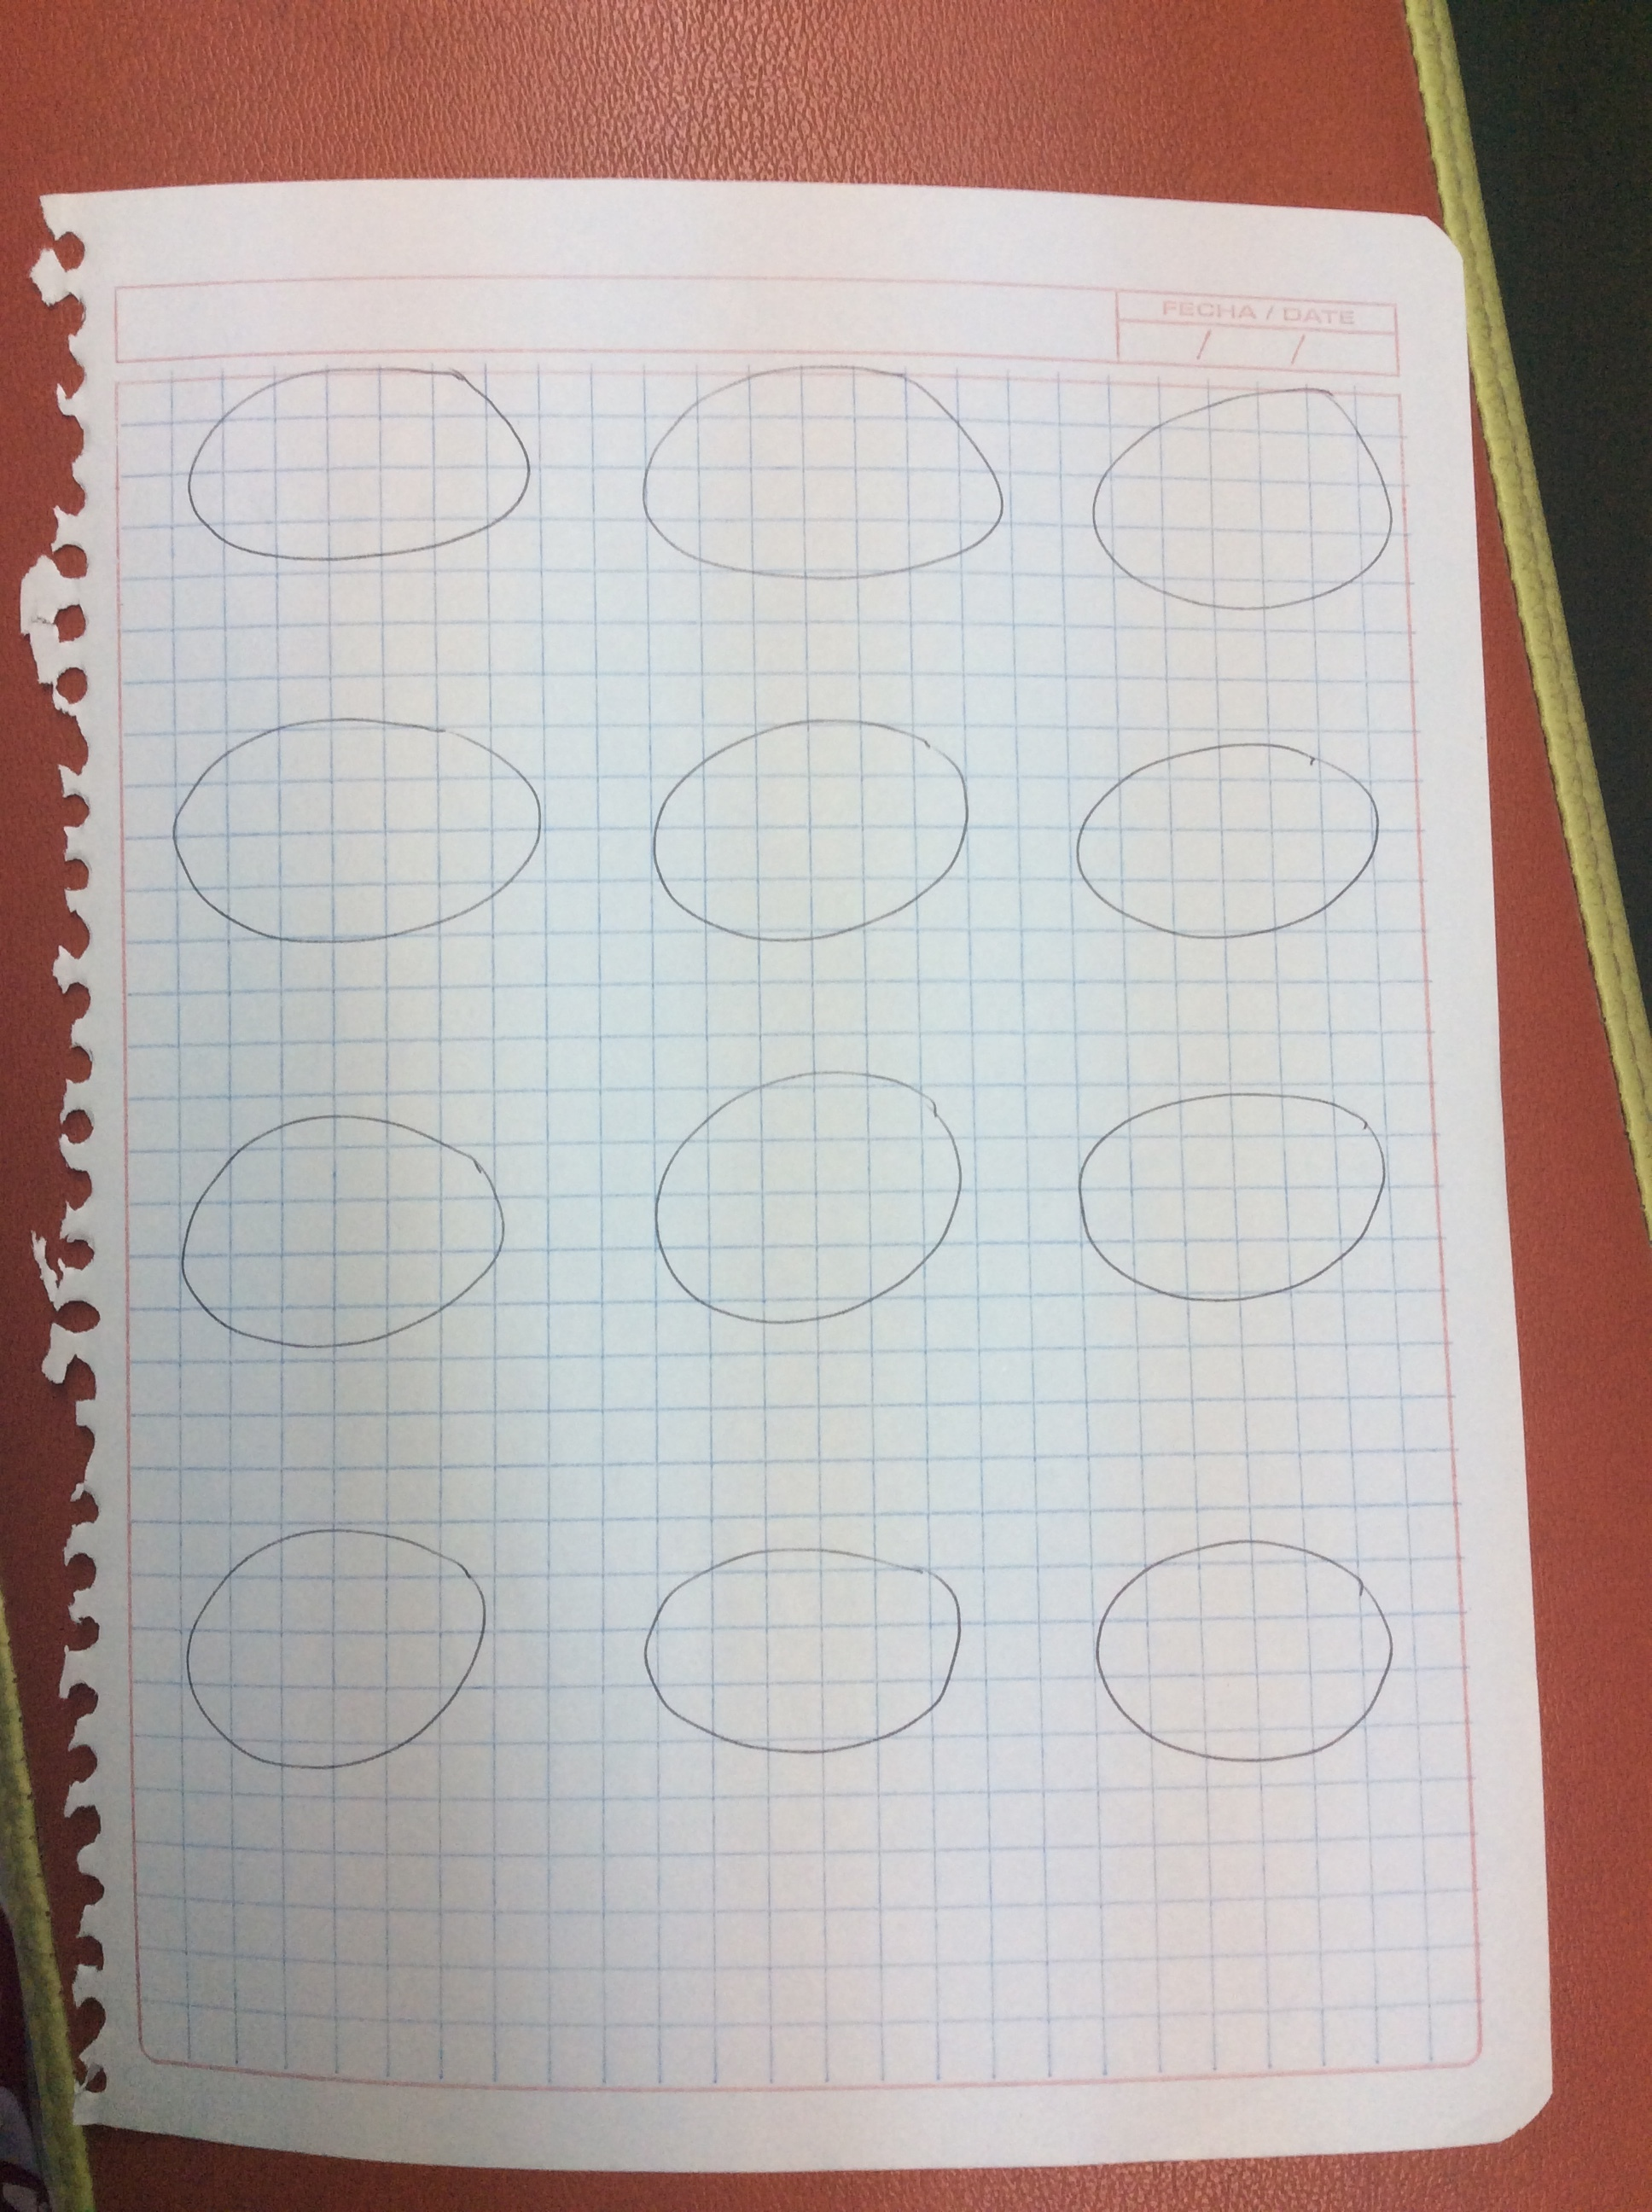start_end: (154, 1482, 521, 1803), (146, 703, 566, 959), (623, 342, 1029, 597), (616, 685, 987, 963), (623, 1062, 994, 1338), (146, 1103, 534, 1355), (609, 1523, 979, 1775), (1071, 1520, 1425, 1782), (1046, 1069, 1407, 1320), (165, 345, 555, 578), (1071, 363, 1414, 625), (1050, 710, 1404, 963)
